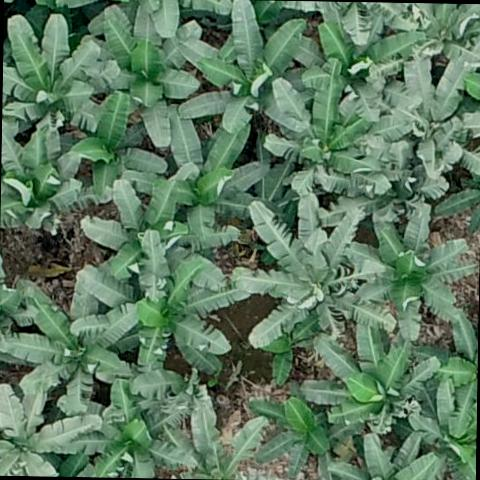Banana-plant: (70, 228, 252, 384), (230, 200, 398, 354), (0, 268, 153, 413), (173, 0, 320, 140), (78, 174, 242, 296), (133, 102, 270, 236), (82, 4, 202, 153), (346, 204, 475, 340), (265, 57, 375, 212), (298, 319, 442, 435), (300, 16, 425, 125), (2, 13, 124, 124), (368, 57, 480, 173), (70, 376, 193, 480), (0, 113, 88, 241), (0, 381, 109, 478), (363, 2, 480, 75), (248, 395, 342, 480), (407, 373, 478, 477), (255, 314, 313, 390)
